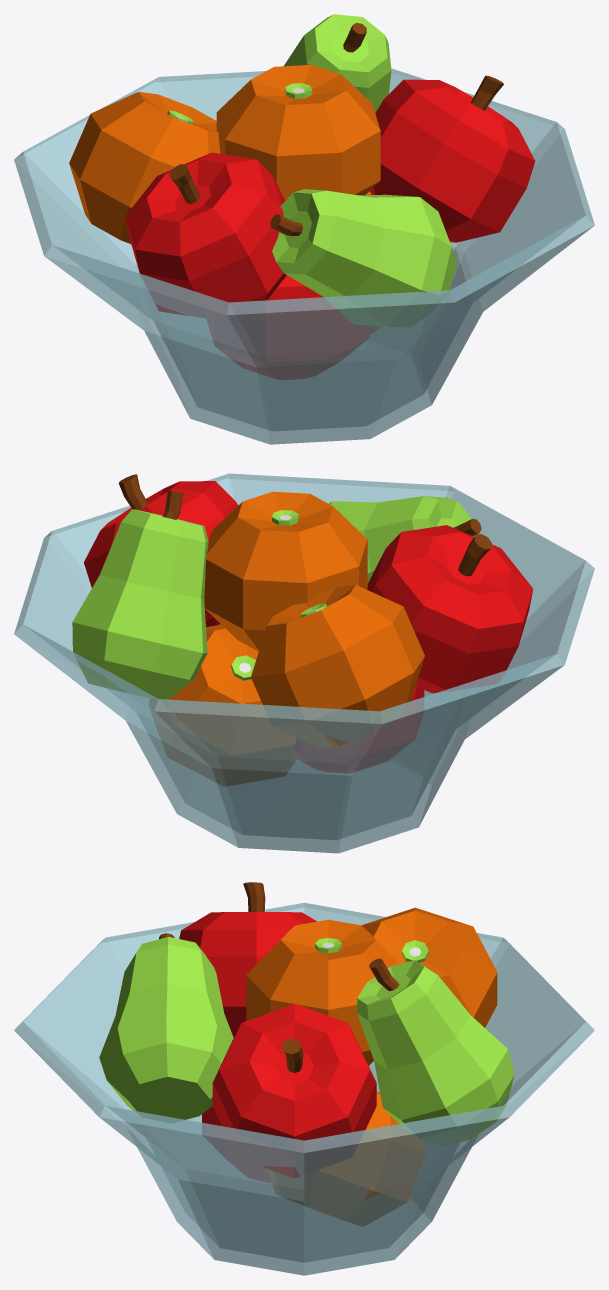
File: bowl-of-fruit--householdpropschallenge-91555e.glb
3 views of the same model, one above another, from view 1: azimuth 30°, elevation 25°; view 2: azimuth 150°, elevation 25°; view 3: azimuth 270°, elevation 25° (orthographic). The views are drawn at different scales.
Visible parts, largest first — view 1: PropMesh; view 2: PropMesh; view 3: PropMesh.
Part boxes in pixels (box(x1,y1,x2,y2)): PropMesh: box(14, 14, 594, 444); PropMesh: box(14, 473, 594, 853); PropMesh: box(14, 882, 594, 1275).
Size of the model in its own units: 0.4316 by 0.25 by 0.4316.
